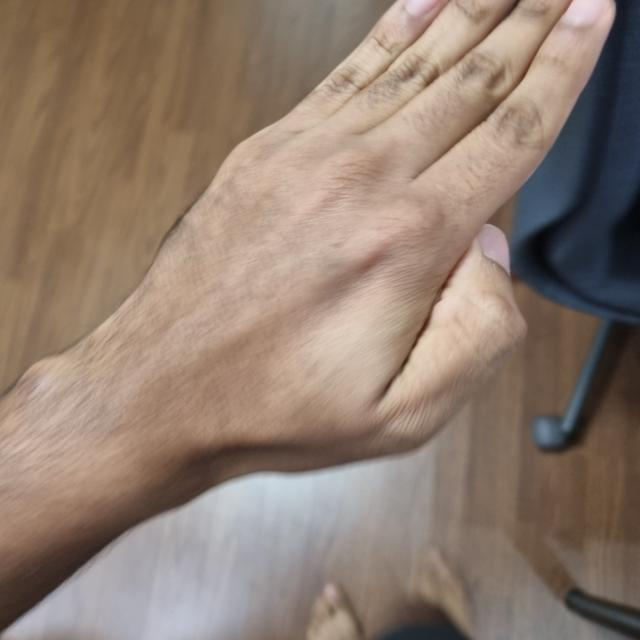Paper: (106, 0, 618, 477)
